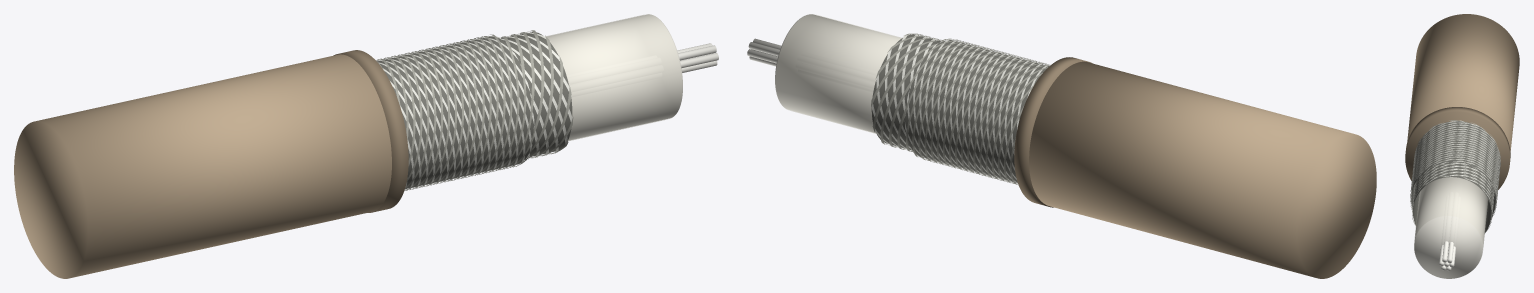
The model's file is rf-sucoflex104.glb.
The picture shows the model from 3 angles, left to right: view 1: azimuth 30°, elevation 25°; view 2: azimuth 150°, elevation 25°; view 3: azimuth 270°, elevation 25°; orthographic projection. The views are drawn at different scales.
Visible parts, largest first — view 1: matte black pvc jacket body, smooth dielectric skin, gas injected foam dielectric, braid dark diamond recess, jacket cut lip, inner braid dark diamond recess, braid left hand woven carrier 01, braid left hand woven carrier 12, braid left hand woven carrier 02, braid left hand woven carrier 11, braid left hand woven carrier 03, braid left hand woven carrier 10 (+9 smaller); view 2: matte black pvc jacket body, smooth dielectric skin, gas injected foam dielectric, braid dark diamond recess, jacket cut lip, inner braid dark diamond recess, braid left hand woven carrier 09, braid left hand woven carrier 08, braid left hand woven carrier 10, braid left hand woven carrier 07, braid left hand woven carrier 11, braid left hand woven carrier 06 (+9 smaller); view 3: matte black pvc jacket body, gas injected foam dielectric, braid dark diamond recess, smooth dielectric skin, jacket cut lip, inner braid dark diamond recess, braid left hand woven carrier 10, braid left hand woven carrier 09, braid left hand woven carrier 11, braid left hand woven carrier 12, braid left hand woven carrier 08, braid right hand woven carrier 10 (+28 smaller).
Part boxes in pixels (bbox=[...]): matte black pvc jacket body: bbox=[14, 54, 391, 278]; smooth dielectric skin: bbox=[546, 14, 681, 141]; gas injected foam dielectric: bbox=[547, 14, 682, 140]; braid dark diamond recess: bbox=[377, 36, 533, 189]; jacket cut lip: bbox=[333, 50, 408, 212]; inner braid dark diamond recess: bbox=[502, 32, 572, 156]; braid left hand woven carrier 01: bbox=[404, 34, 512, 188]; braid left hand woven carrier 12: bbox=[398, 36, 505, 181]; braid left hand woven carrier 02: bbox=[405, 41, 519, 190]; braid left hand woven carrier 11: bbox=[391, 37, 498, 178]; braid left hand woven carrier 03: bbox=[406, 49, 526, 190]; braid left hand woven carrier 10: bbox=[384, 39, 491, 180]; matte black pvc jacket body: bbox=[1029, 61, 1376, 278]; smooth dielectric skin: bbox=[776, 14, 901, 133]; gas injected foam dielectric: bbox=[775, 14, 901, 132]; braid dark diamond recess: bbox=[905, 40, 1049, 182]; jacket cut lip: bbox=[1014, 57, 1092, 207]; inner braid dark diamond recess: bbox=[871, 34, 940, 149]; braid left hand woven carrier 09: bbox=[912, 47, 1047, 178]; braid left hand woven carrier 08: bbox=[918, 48, 1042, 180]; braid left hand woven carrier 10: bbox=[906, 45, 1049, 177]; braid left hand woven carrier 07: bbox=[924, 50, 1034, 182]; braid left hand woven carrier 11: bbox=[904, 43, 1047, 175]; braid left hand woven carrier 06: bbox=[930, 52, 1023, 183]; matte black pvc jacket body: bbox=[1407, 14, 1519, 152]; gas injected foam dielectric: bbox=[1414, 177, 1487, 278]; braid dark diamond recess: bbox=[1411, 121, 1499, 215]; smooth dielectric skin: bbox=[1414, 177, 1487, 253]; jacket cut lip: bbox=[1405, 107, 1510, 189]; inner braid dark diamond recess: bbox=[1413, 162, 1493, 232]; braid left hand woven carrier 10: bbox=[1411, 126, 1499, 214]; braid left hand woven carrier 09: bbox=[1411, 124, 1499, 217]; braid left hand woven carrier 11: bbox=[1411, 128, 1499, 196]; braid left hand woven carrier 12: bbox=[1411, 131, 1499, 189]; braid left hand woven carrier 08: bbox=[1412, 122, 1499, 203]; braid right hand woven carrier 10: bbox=[1410, 127, 1500, 210].
Bounding box in the file's own units: 6.53 × 1.41 × 1.54.
